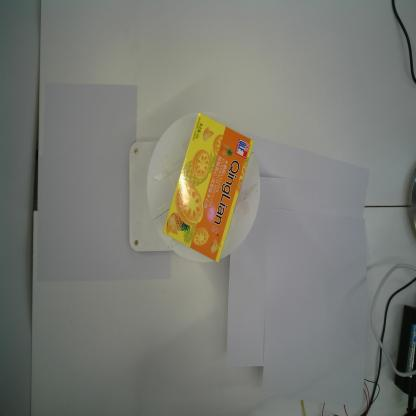Dessert: (158, 112, 254, 266)
